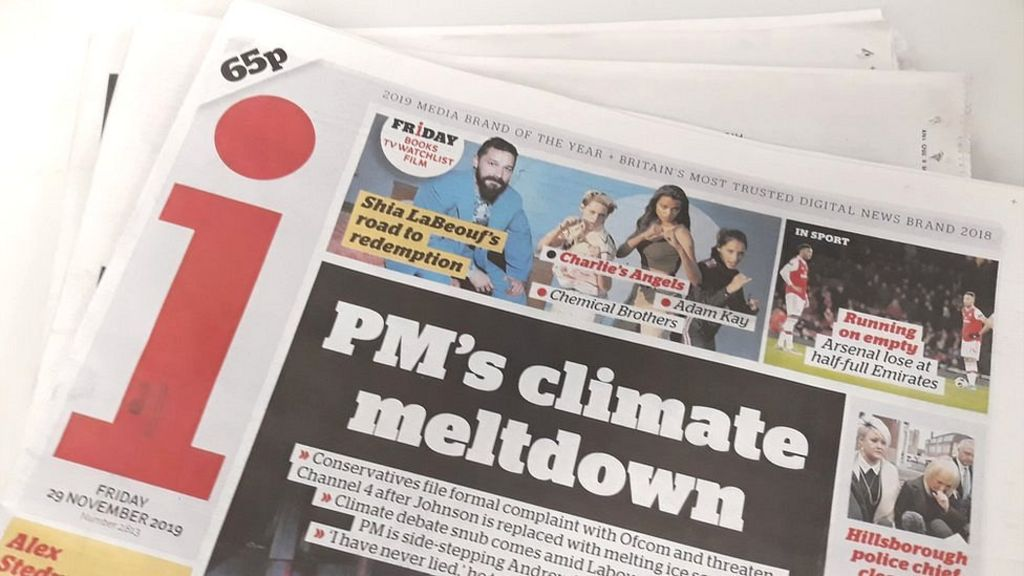news_paper: (7, 8, 1024, 569)
